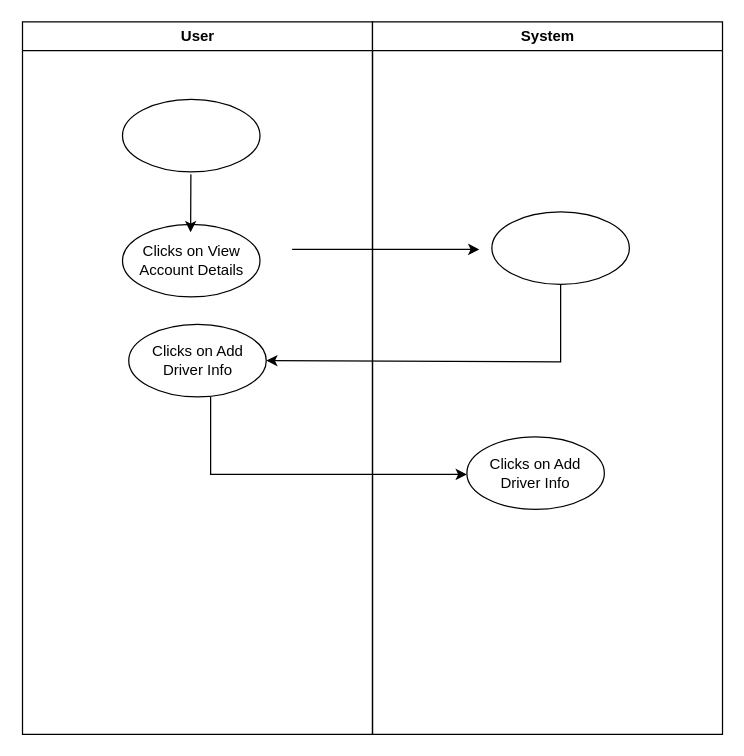
The diagram is 744 pixels wide and 756 high, and some of its shapes have lost their labels. Each missing label, with the centre of its shape:
"Display Account.php" goes at pixel 560 247.
"In the Home Page" goes at pixel 190 135.
